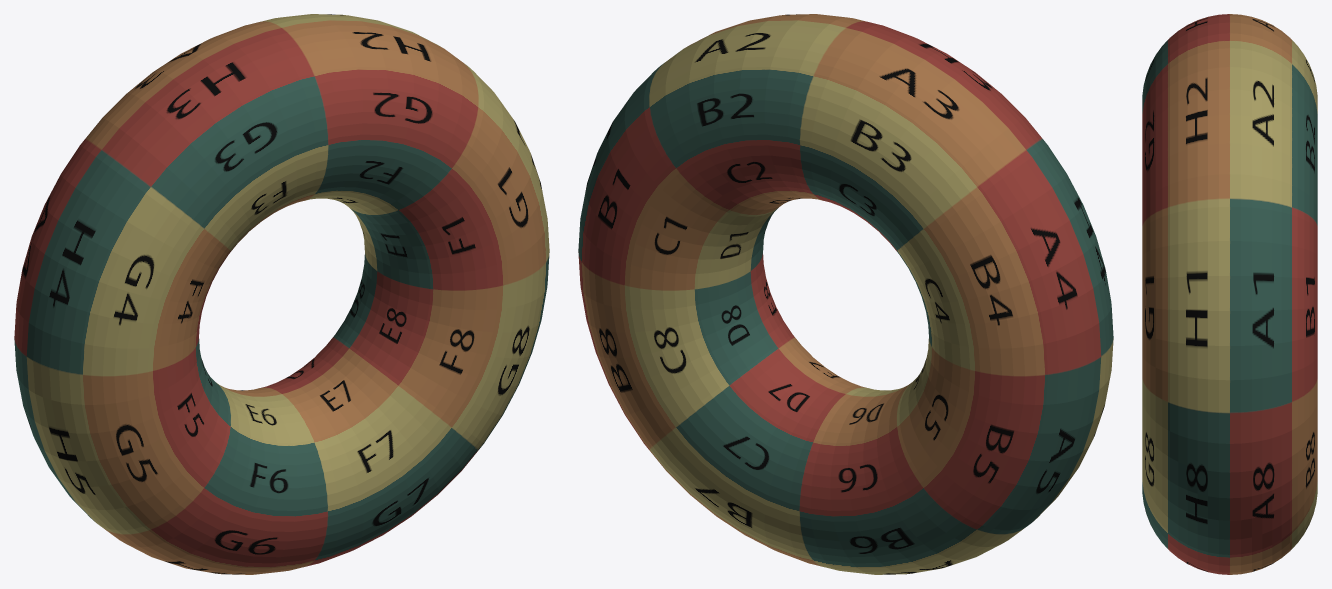
The model's file is texture_torus_R17_r29.glb.
3 renders of one model, left to right at view 1: azimuth 30°, elevation 25°; view 2: azimuth 150°, elevation 25°; view 3: azimuth 270°, elevation 25°, orthographic. The views are drawn at different scales.
Visible parts, largest first — view 1: world; view 2: world; view 3: world.
Boxes of the visible parts, x1,y1,x2,y2 form: world: [14, 14, 549, 574]; world: [578, 14, 1113, 574]; world: [1142, 14, 1317, 574].
Bounding box in the file's own units: 31.07 × 31.01 × 9.71.
Materials: 1 (1 with a texture image).
